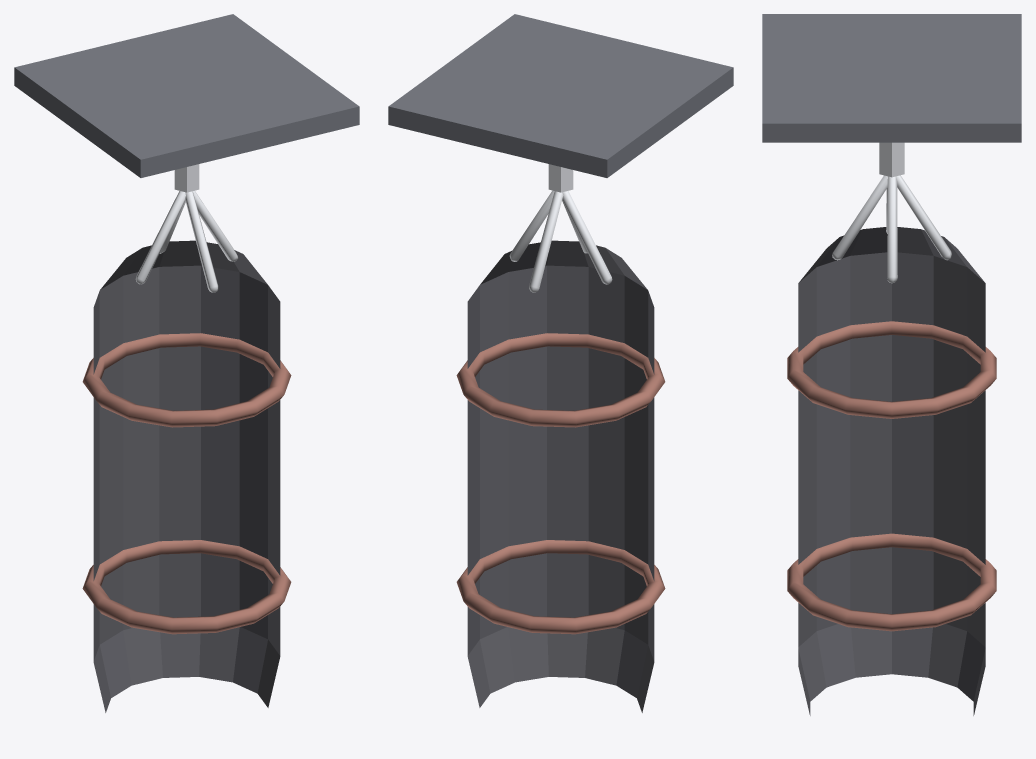
File: heavy_bag.glb
3 views of the same model, side by side, from view 1: azimuth 30°, elevation 25°; view 2: azimuth 150°, elevation 25°; view 3: azimuth 270°, elevation 25° (orthographic). The views are drawn at different scales.
Parts seen in each view (by area): view 1: heavy-bag; view 2: heavy-bag; view 3: heavy-bag.
Boxes of the visible parts, x1,y1,x2,y2 form: heavy-bag: [14, 14, 359, 712]; heavy-bag: [388, 14, 733, 712]; heavy-bag: [762, 14, 1021, 715].
Size of the model in its own units: 0.62 by 1.69 by 0.62.
